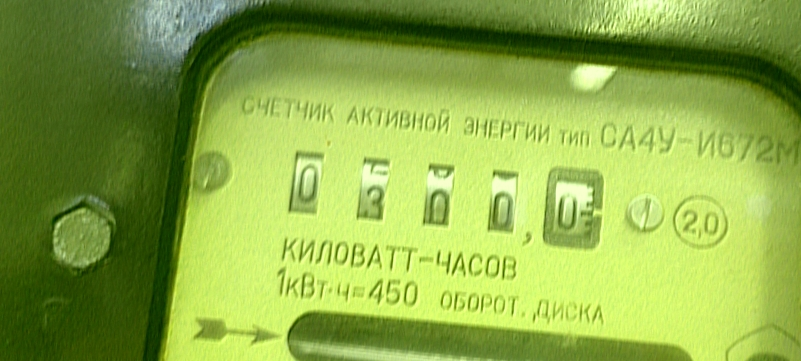0: (295, 160, 322, 208), (489, 189, 517, 234), (553, 190, 581, 235), (425, 186, 452, 229)
3: (361, 182, 387, 223)
screen: (266, 127, 627, 269)
